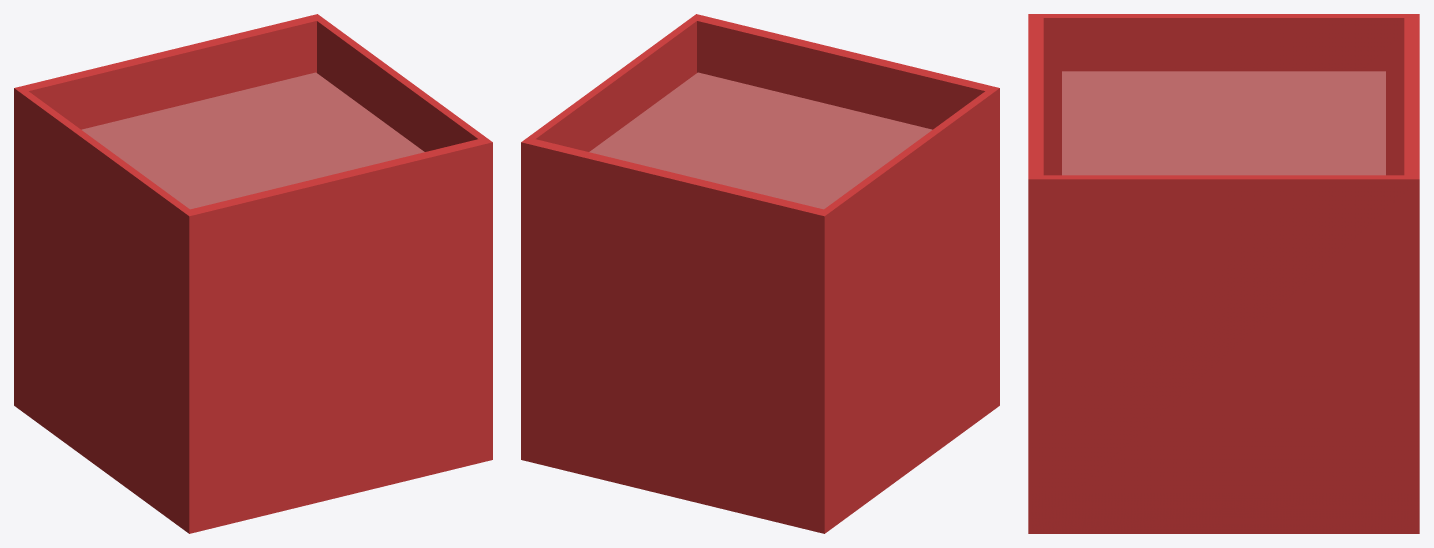
Rendered from batea_carne.glb.
The picture shows the model from 3 angles, left to right: view 1: azimuth 30°, elevation 25°; view 2: azimuth 150°, elevation 25°; view 3: azimuth 270°, elevation 25°; orthographic projection. The views are drawn at different scales.
Parts seen in each view (by area): view 1: batea_carne; view 2: batea_carne; view 3: batea_carne.
Part boxes in pixels (box(x1,y1,x2,y2)): batea_carne: box(14, 14, 492, 533); batea_carne: box(521, 14, 999, 533); batea_carne: box(1028, 14, 1419, 533).
Bounding box in the file's own units: 1 × 1 × 1.
